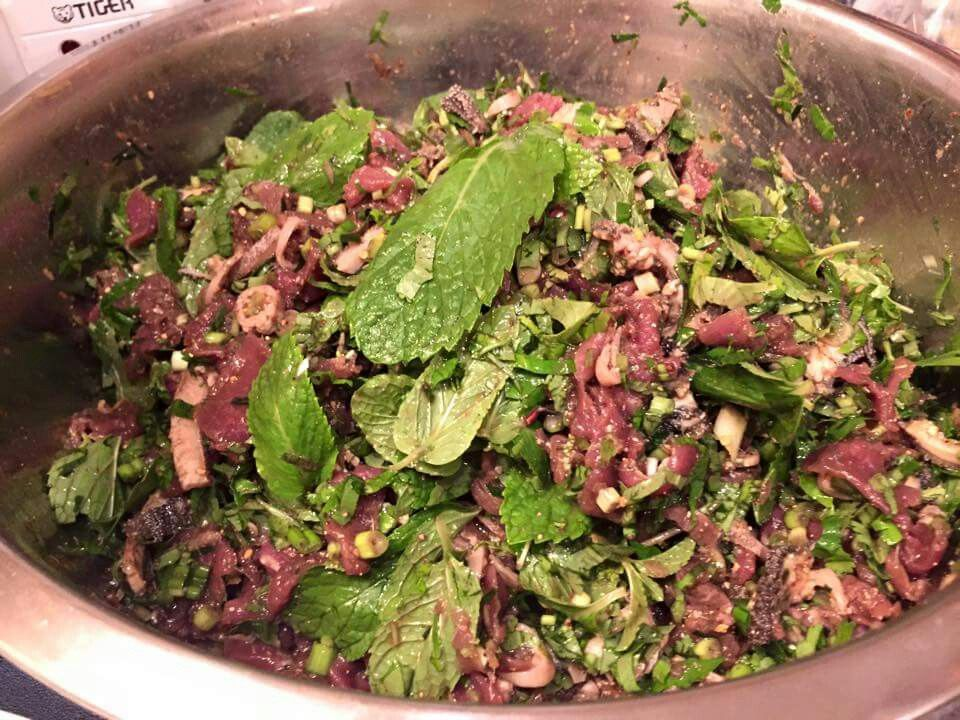ground_beef: (528, 279, 714, 510)
